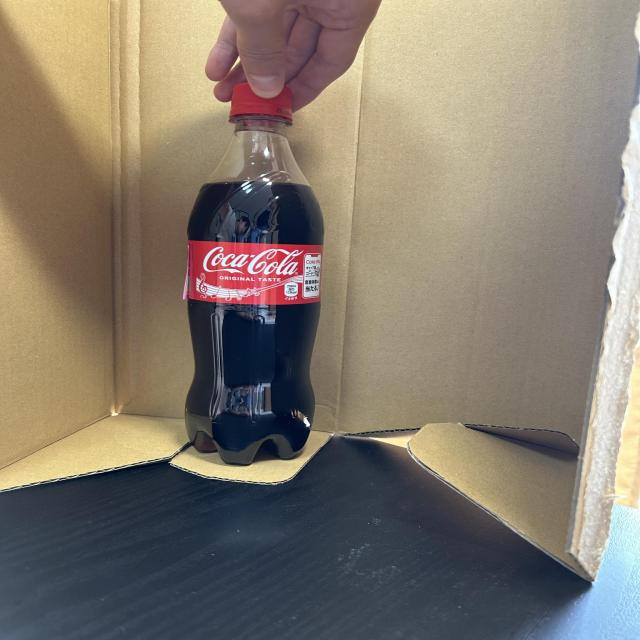high: (185, 82, 326, 464)
